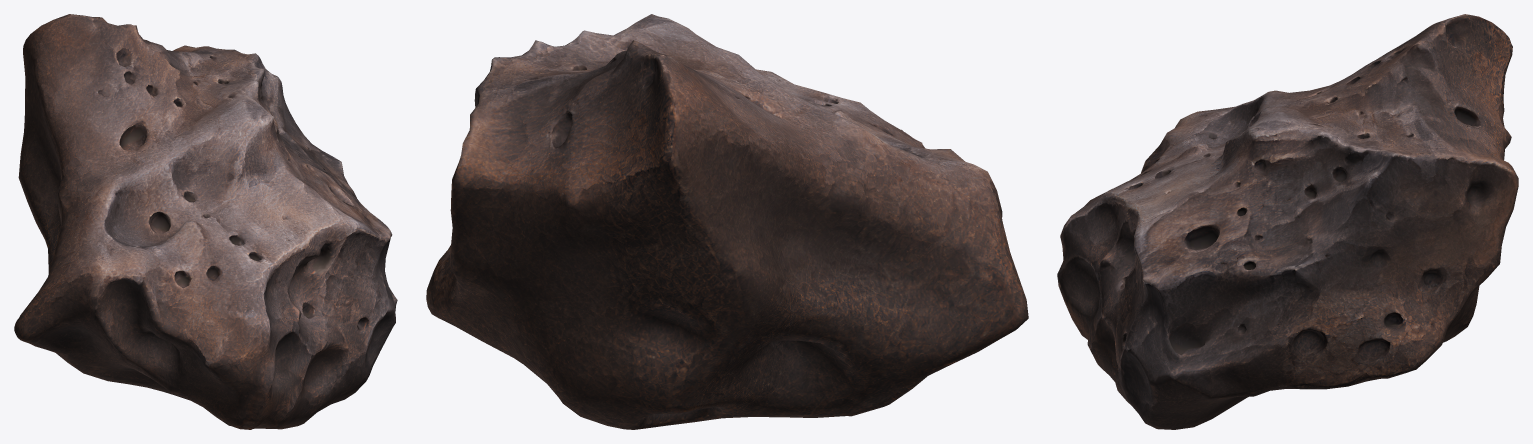
The model's file is porous-meteor.glb.
The picture shows the model from 3 angles, left to right: view 1: azimuth 30°, elevation 25°; view 2: azimuth 150°, elevation 25°; view 3: azimuth 270°, elevation 25°; orthographic projection. The views are drawn at different scales.
Parts seen in each view (by area): view 1: tripo_89670702_a67d_4e63_b70d_c39d5ea15abe; view 2: tripo_89670702_a67d_4e63_b70d_c39d5ea15abe; view 3: tripo_89670702_a67d_4e63_b70d_c39d5ea15abe.
Boxes of the visible parts, bbox=[...] form: tripo_89670702_a67d_4e63_b70d_c39d5ea15abe: bbox=[14, 14, 397, 429]; tripo_89670702_a67d_4e63_b70d_c39d5ea15abe: bbox=[426, 14, 1028, 429]; tripo_89670702_a67d_4e63_b70d_c39d5ea15abe: bbox=[1057, 14, 1518, 429].
Bounding box in the file's own units: 0.9741 × 0.853 × 0.9995.
1 material, 1 textured.
